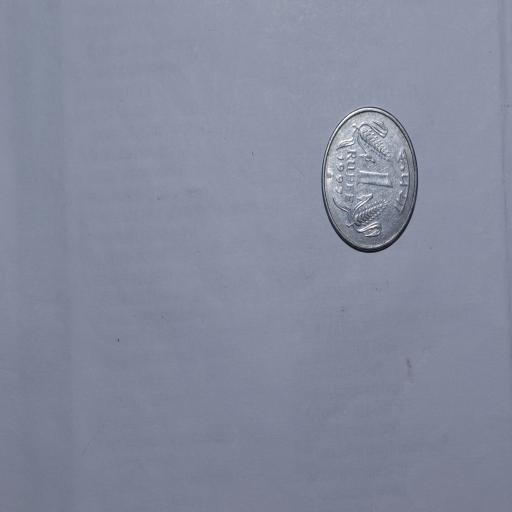rupee1: (317, 106, 421, 262)
